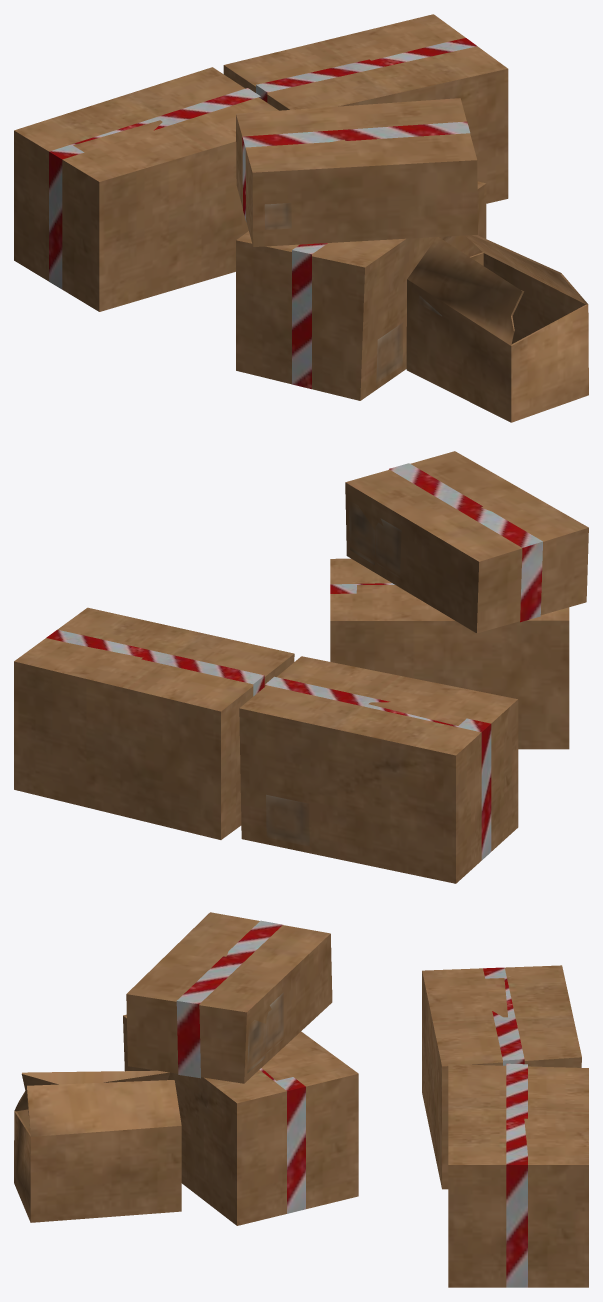
File: KB3D_NEC_BldgSM_C_Boxes.glb
3 renders of one model, top to bottom at view 1: azimuth 30°, elevation 25°; view 2: azimuth 150°, elevation 25°; view 3: azimuth 270°, elevation 25°, orthographic. The views are drawn at different scales.
Visible parts, largest first — view 1: KB3D_NEC_BldgSM_C_Boxes; view 2: KB3D_NEC_BldgSM_C_Boxes; view 3: KB3D_NEC_BldgSM_C_Boxes.
Boxes of the visible parts, x1,y1,x2,y2 form: KB3D_NEC_BldgSM_C_Boxes: (14,14,588,422); KB3D_NEC_BldgSM_C_Boxes: (14,451,588,883); KB3D_NEC_BldgSM_C_Boxes: (14,912,588,1287).
Bounding box in the file's own units: 1.58 × 0.7532 × 1.92.
Materials: 3 (3 with a texture image).
